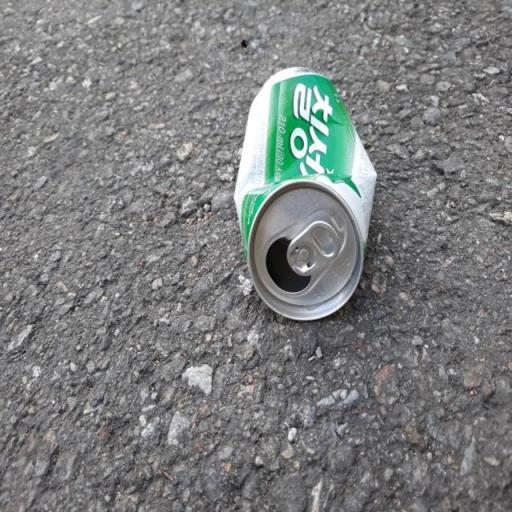metal: (230, 37, 419, 373)
